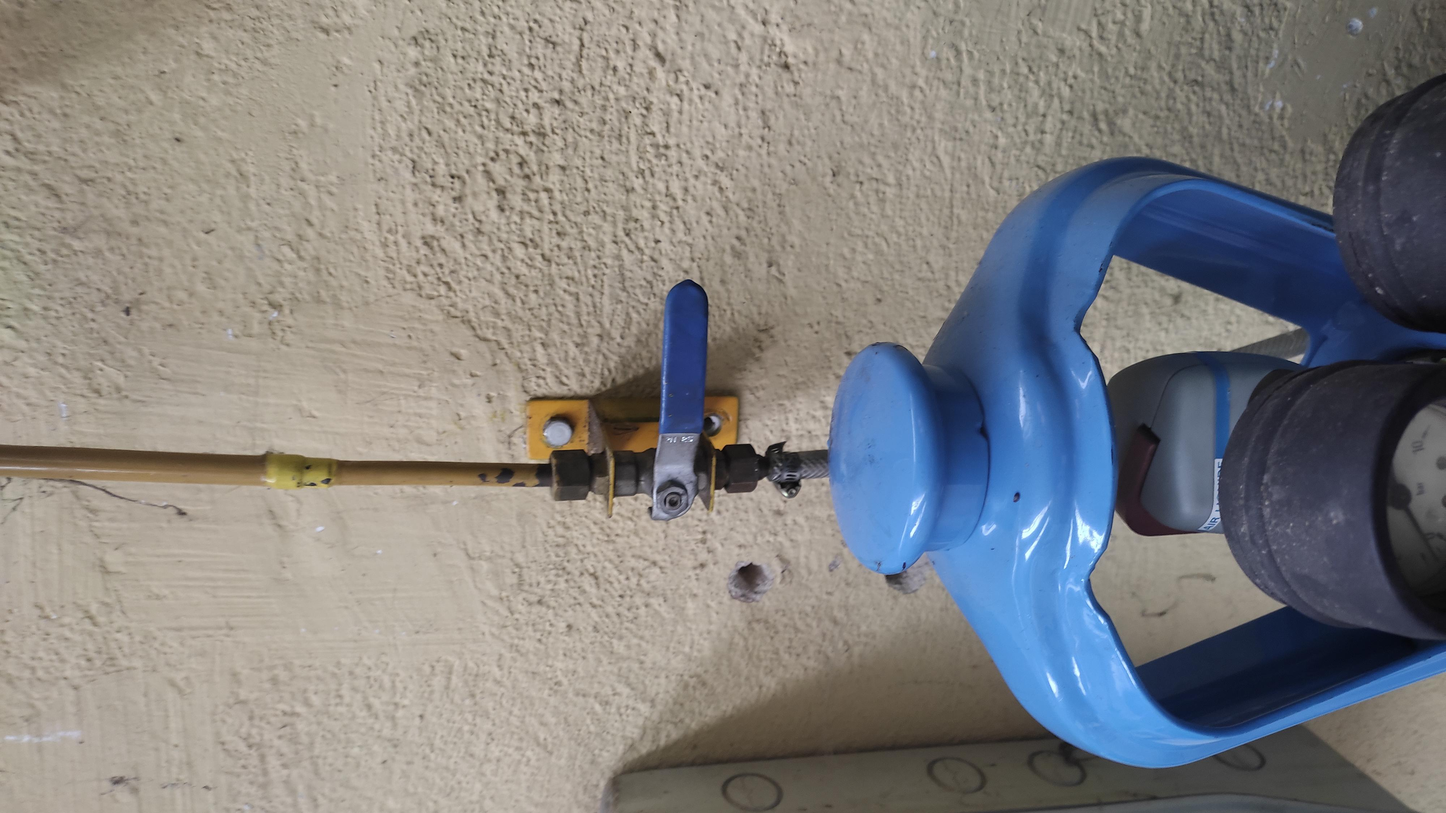closed valve: (603, 272, 724, 523)
